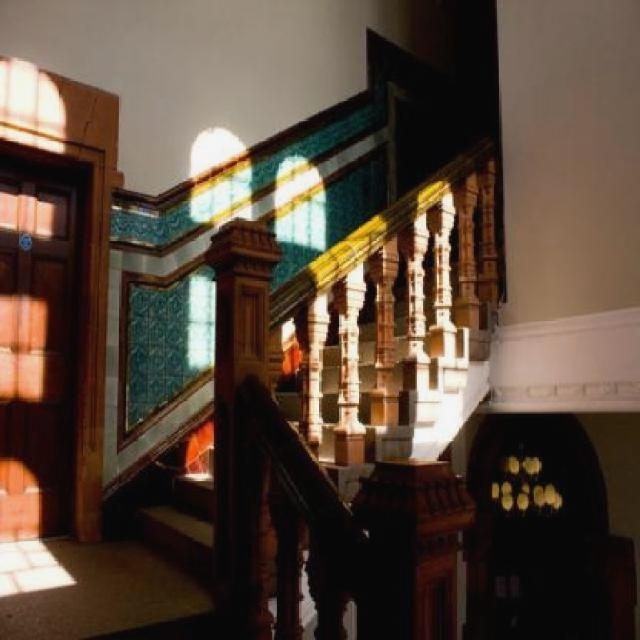stair: (0, 302, 500, 638)
